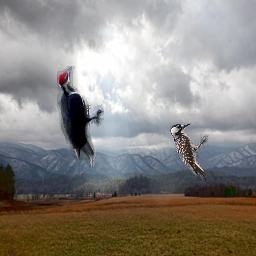Woodpecker: (57, 66, 104, 167), (170, 123, 209, 180)
